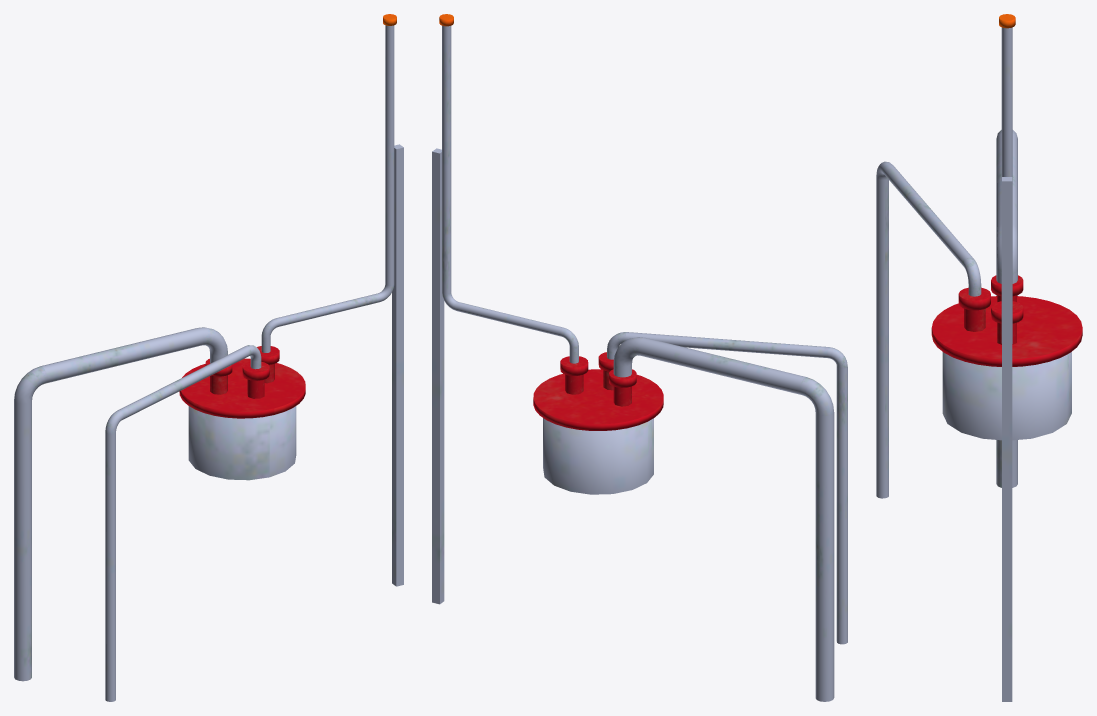
The model's file is refuel-area-piping-cbj_LOD00.gltf.
3 views of the same model, side by side, from view 1: azimuth 30°, elevation 25°; view 2: azimuth 150°, elevation 25°; view 3: azimuth 270°, elevation 25° (orthographic). The views are drawn at different scales.
Visible parts, largest first — view 1: Cube; view 2: Cube; view 3: Cube.
Part boxes in pixels (x1,y1,x2,y2): Cube: [14, 14, 403, 701]; Cube: [432, 14, 847, 701]; Cube: [876, 14, 1082, 701].
Size of the model in its own units: 4.93 by 6.96 by 1.91.
